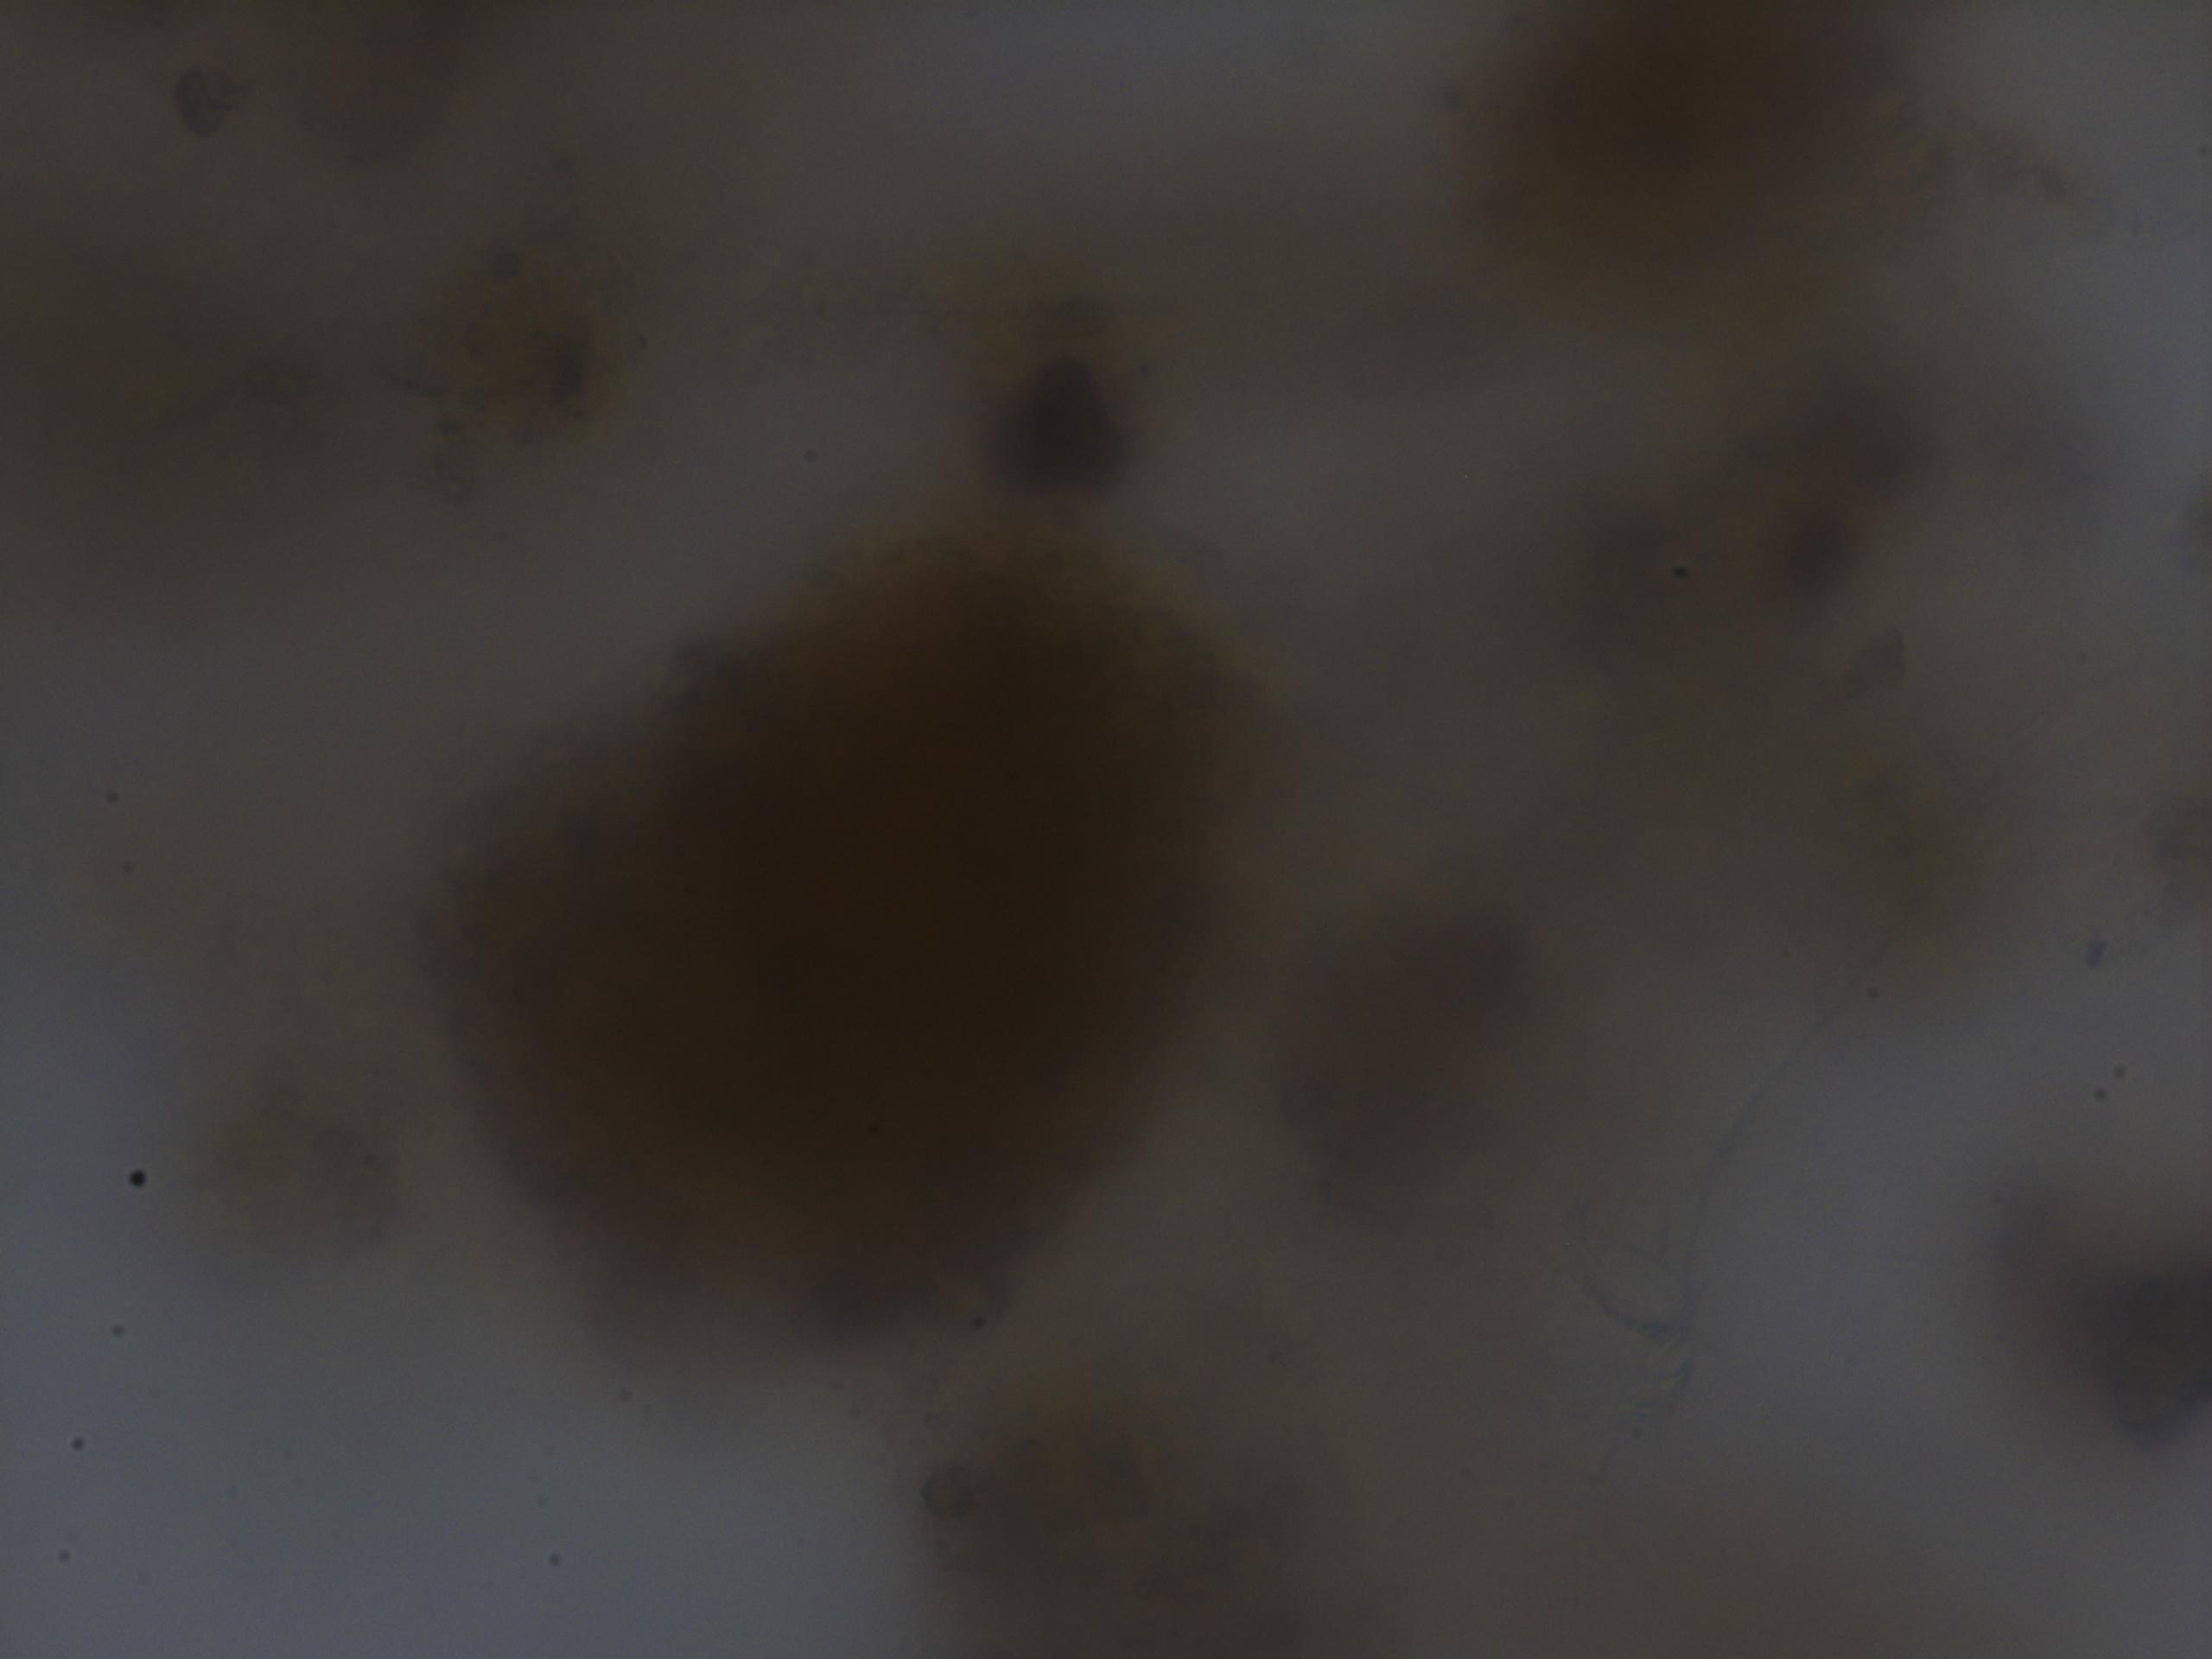spherical_floc: (425, 477, 1301, 1403)
